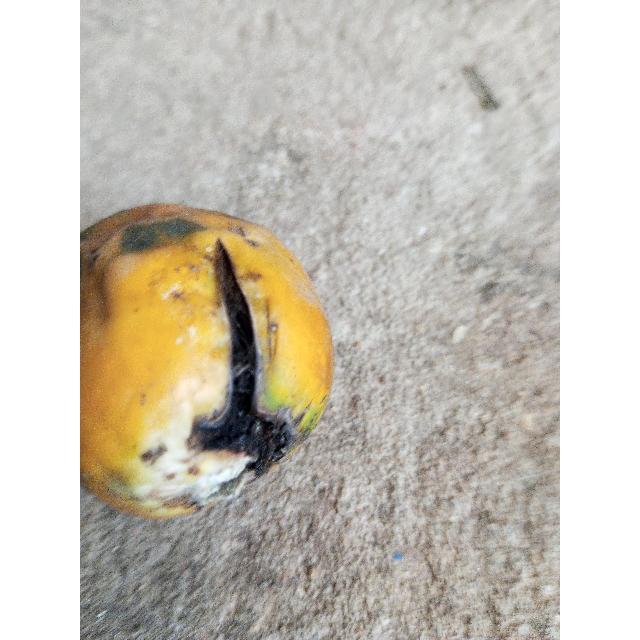damaged: (80, 204, 333, 517)
